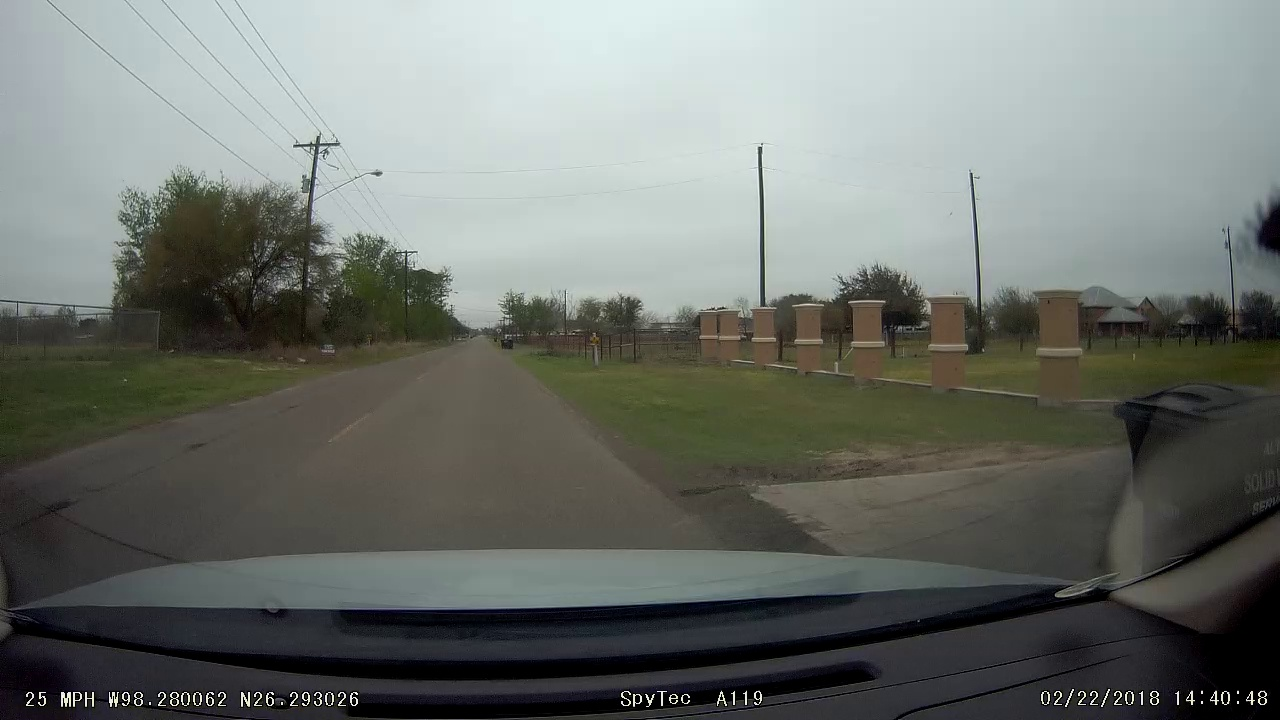blurredLine: (316, 404, 386, 460)
